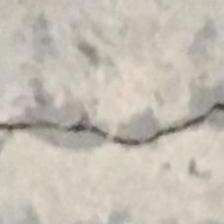Crack: (0, 86, 224, 158)
